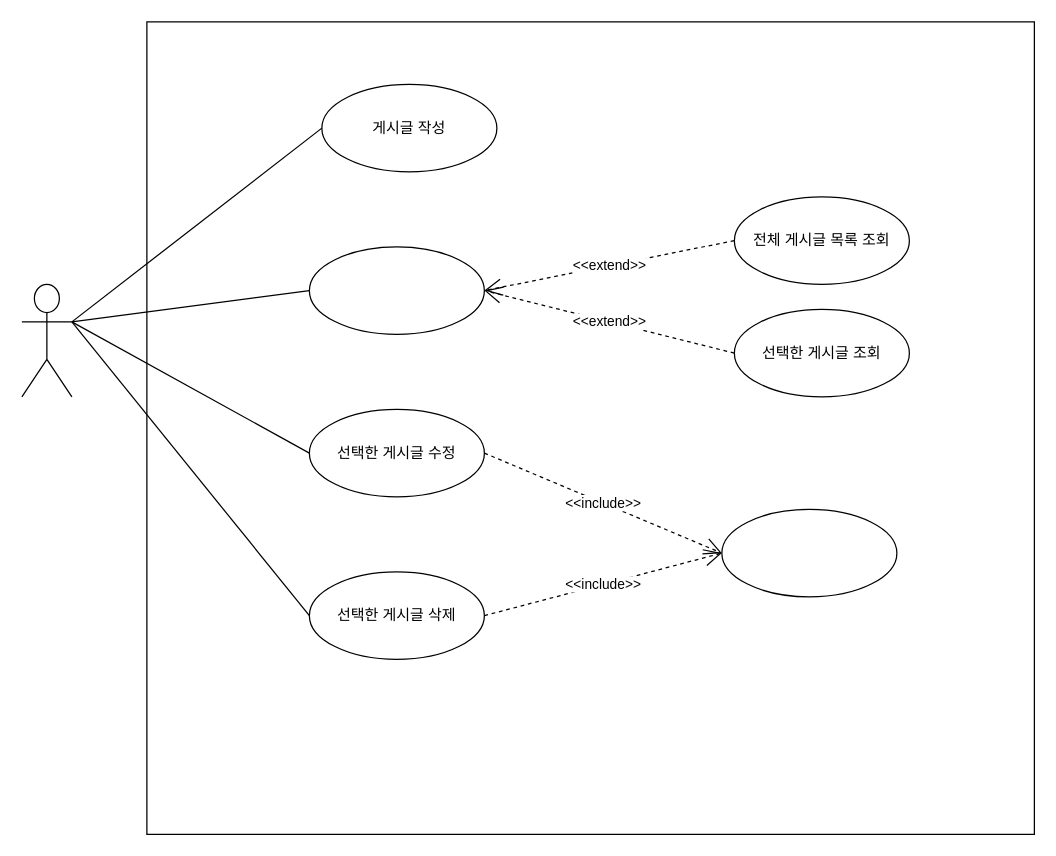
Image size: 1056x856. Some labels were removed from this diagram. The box of each missing label's shape, as (x1, y1, x2, y2) in pixels:
게시글 조회: (308, 246, 484, 334)
비밀번호 확인: (721, 508, 897, 597)
사용자: (21, 283, 72, 397)
